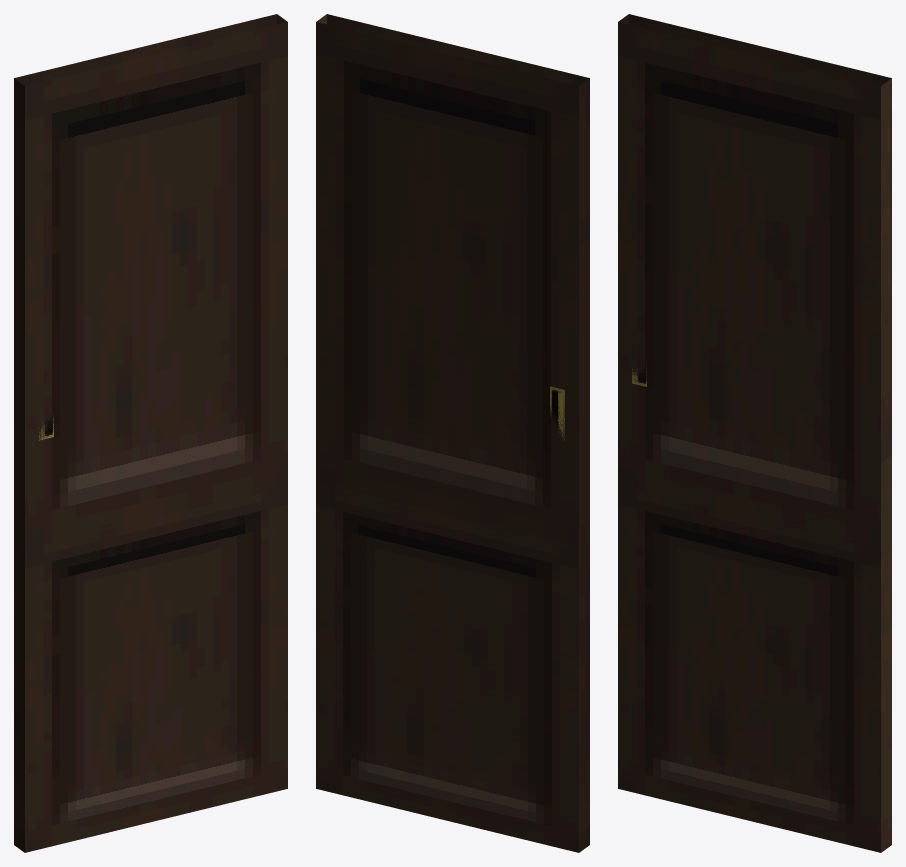
The model's file is primary_125.glb.
3 renders of one model, left to right at view 1: azimuth 30°, elevation 25°; view 2: azimuth 150°, elevation 25°; view 3: azimuth 330°, elevation 25°, orthographic.
Visible parts, largest first — view 1: Object; view 2: Object; view 3: Object.
Boxes of the visible parts, bbox=[...] form: Object: bbox=[14, 14, 287, 852]; Object: bbox=[316, 14, 589, 852]; Object: bbox=[618, 14, 891, 852].
Size of the model in its own units: 1.05 by 2.94 by 0.0753.
7 materials, 7 textured.
